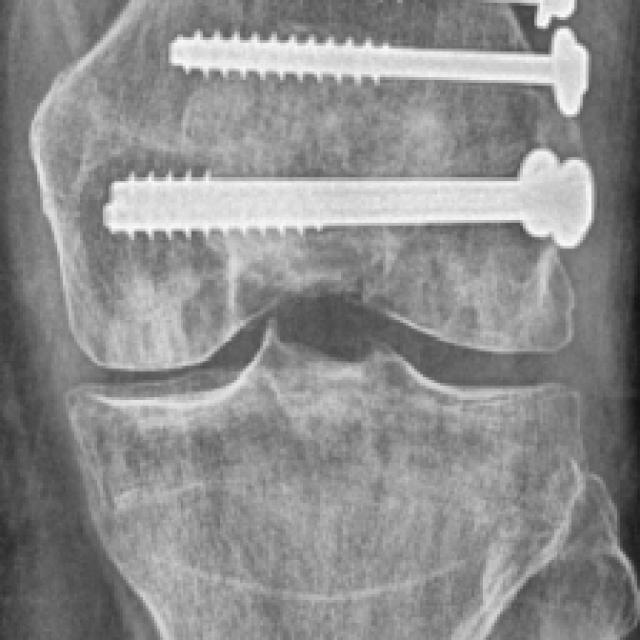femur: (29, 0, 597, 373)
tibia: (71, 331, 597, 640)
